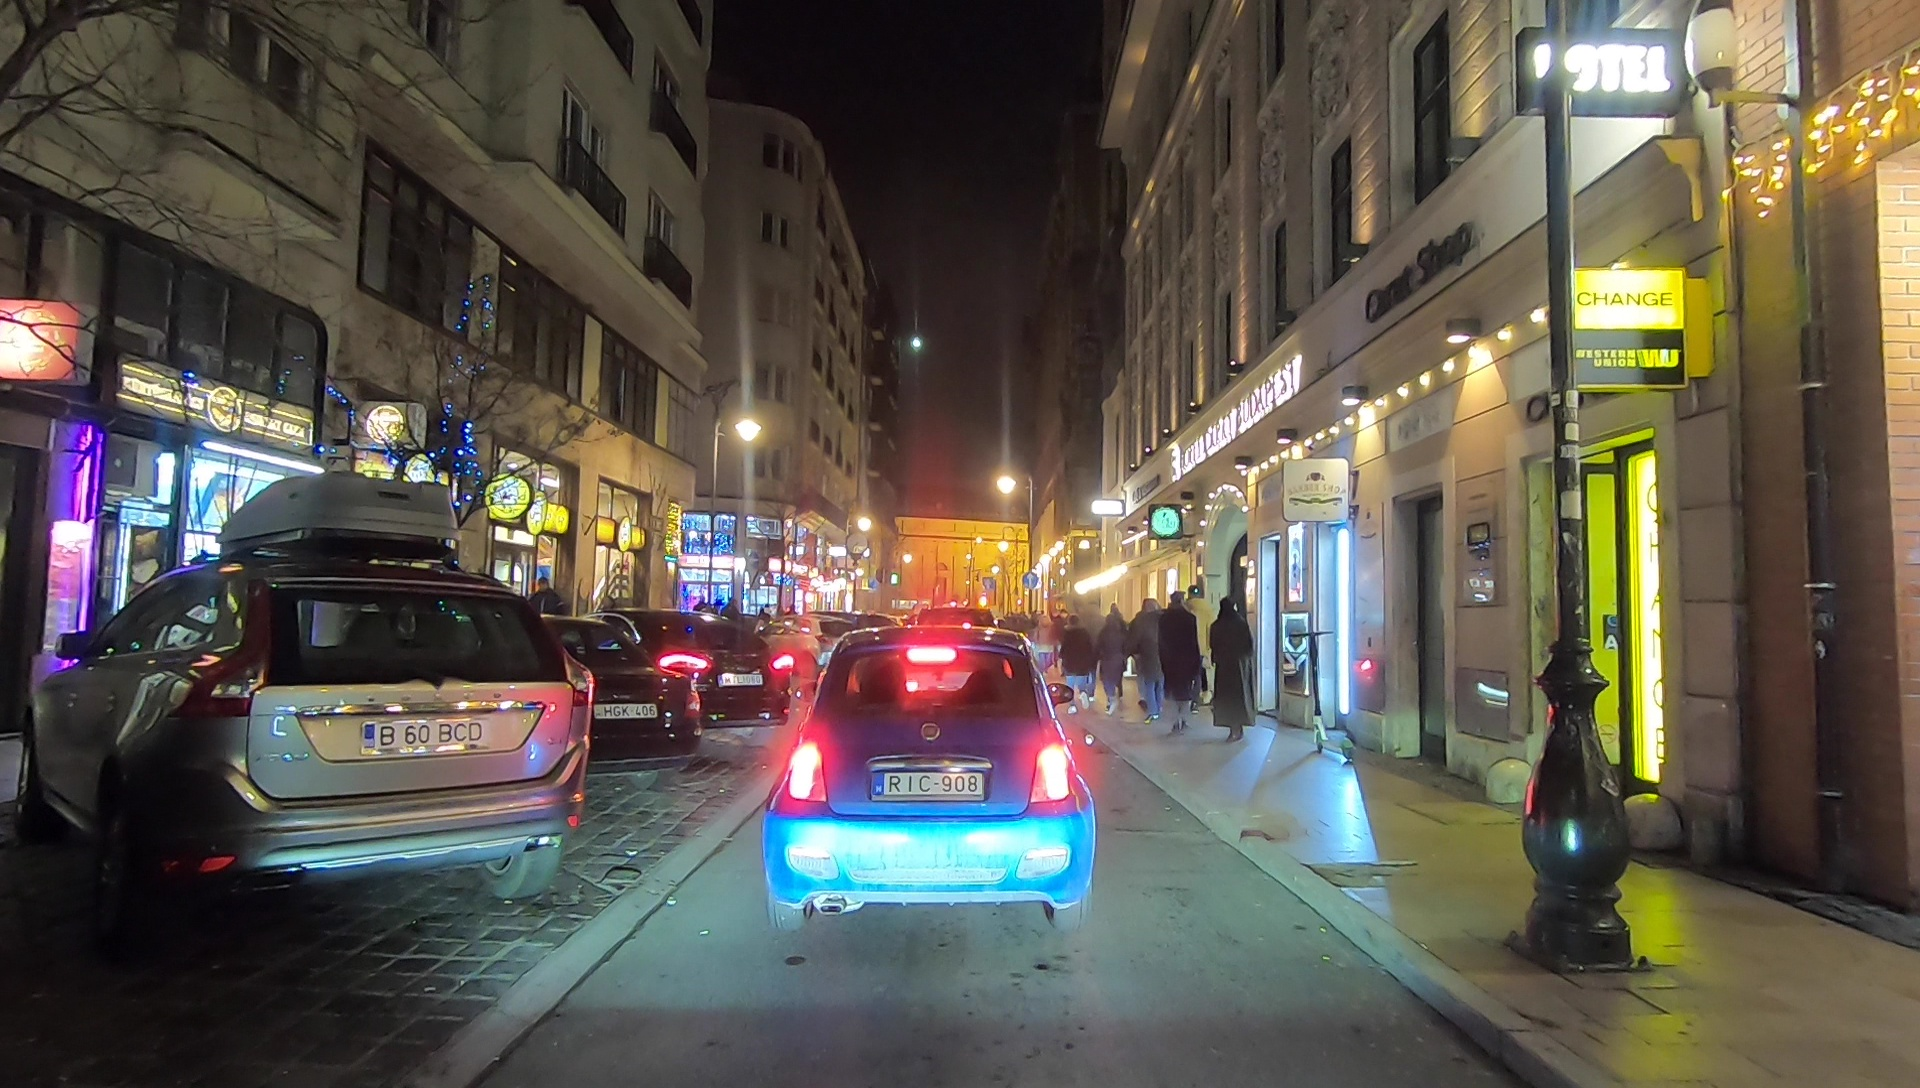person: (1211, 595, 1253, 742), (1160, 599, 1199, 735), (1097, 604, 1132, 717), (525, 579, 566, 663), (1184, 587, 1212, 707), (1134, 601, 1160, 719), (1066, 617, 1091, 706), (1034, 614, 1054, 676)
